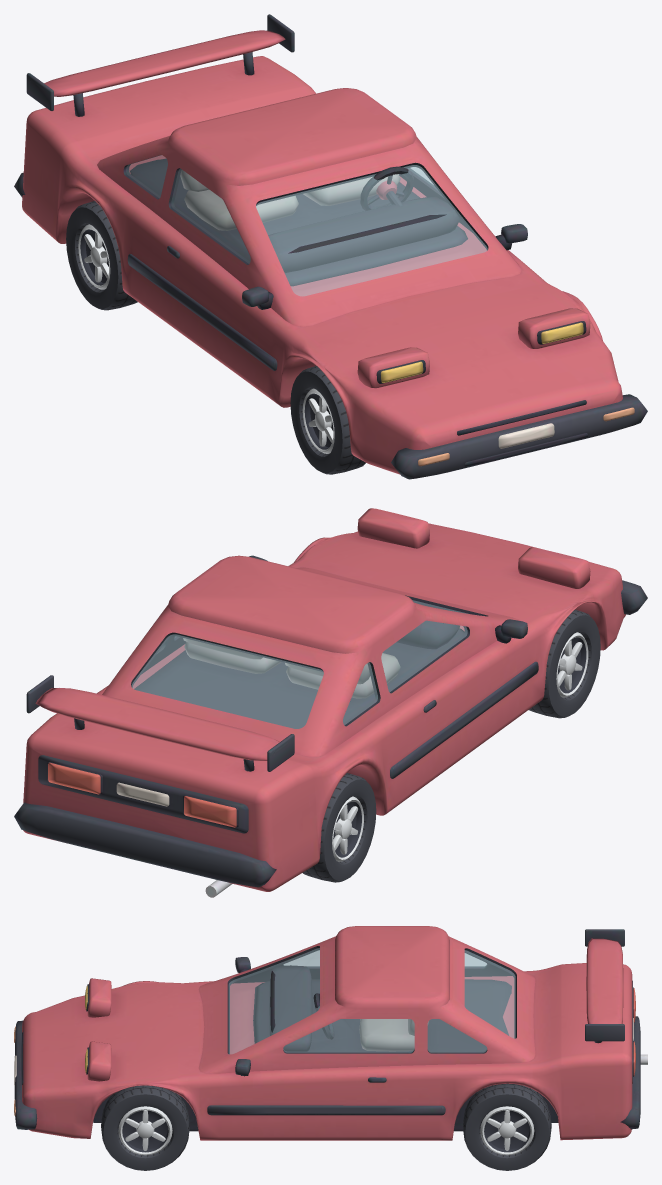
File: car-gt80.glb
3 views of the same model, one above another, from view 1: azimuth 30°, elevation 25°; view 2: azimuth 150°, elevation 25°; view 3: azimuth 270°, elevation 25° (orthographic). The views are drawn at different scales.
Parts seen in each view (by area): view 1: car_body, car_windows, car_wheel_fr, car_wheel_rr; view 2: car_body, car_windows, car_wheel_rr, car_wheel_fr; view 3: car_body, car_windows, car_wheel_rl, car_wheel_fl.
Boxes of the visible parts, left/top/right/bottom form: car_body: left=14, top=14, right=647, bottom=479; car_windows: left=126, top=155, right=487, bottom=296; car_wheel_fr: left=290, top=366, right=365, bottom=474; car_wheel_rr: left=66, top=201, right=137, bottom=310; car_body: left=14, top=508, right=647, bottom=897; car_windows: left=132, top=600, right=467, bottom=728; car_wheel_rr: left=302, top=773, right=376, bottom=882; car_wheel_fr: left=529, top=609, right=600, bottom=718; car_body: left=14, top=926, right=647, bottom=1140; car_windows: left=229, top=948, right=515, bottom=1053; car_wheel_rl: left=462, top=1083, right=551, bottom=1170; car_wheel_fl: left=101, top=1085, right=189, bottom=1170.
Size of the model in its own units: 1.83 by 1.23 by 4.42.
Materials: 6 (2 with a texture image).
